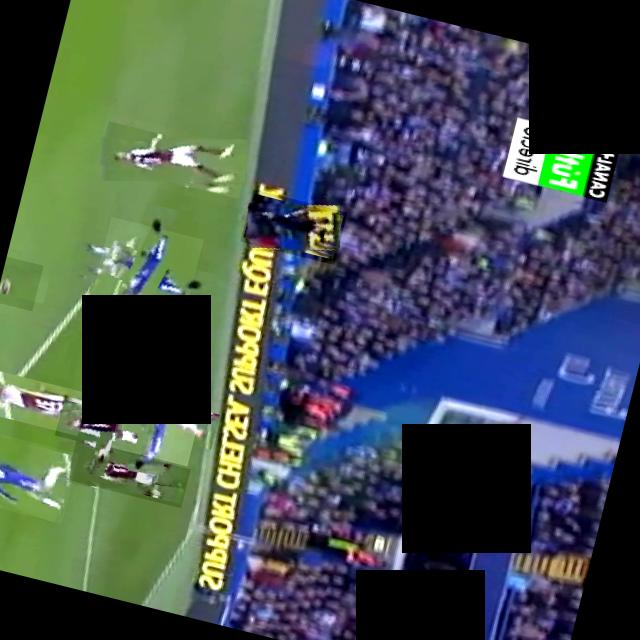ball: (85, 434, 119, 468)
referee: (240, 188, 347, 264), (0, 255, 43, 310)
soccer-player: (94, 112, 252, 206), (88, 216, 203, 330), (110, 368, 206, 466), (66, 439, 190, 506), (0, 424, 79, 522), (55, 393, 156, 458), (0, 364, 87, 434)
